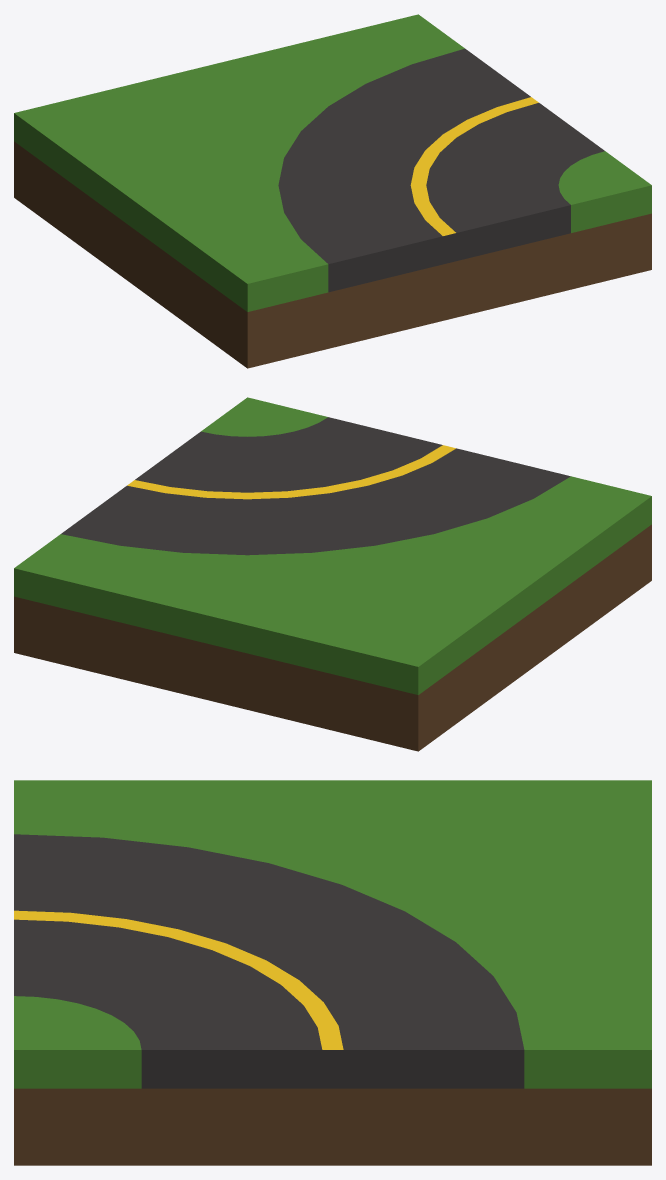
Rendered from tile-runway-turn.glb.
3 renders of one model, top to bottom at view 1: azimuth 30°, elevation 25°; view 2: azimuth 150°, elevation 25°; view 3: azimuth 270°, elevation 25°, orthographic. The views are drawn at different scales.
Parts seen in each view (by area): view 1: tile-runway-turn; view 2: tile-runway-turn; view 3: tile-runway-turn.
Part boxes in pixels (<box>): tile-runway-turn: <box>14,14,651,368</box>; tile-runway-turn: <box>14,397,651,751</box>; tile-runway-turn: <box>14,780,651,1165</box>.
Bounding box in the file's own units: 30 × 6 × 30.
1 material, 1 textured.
